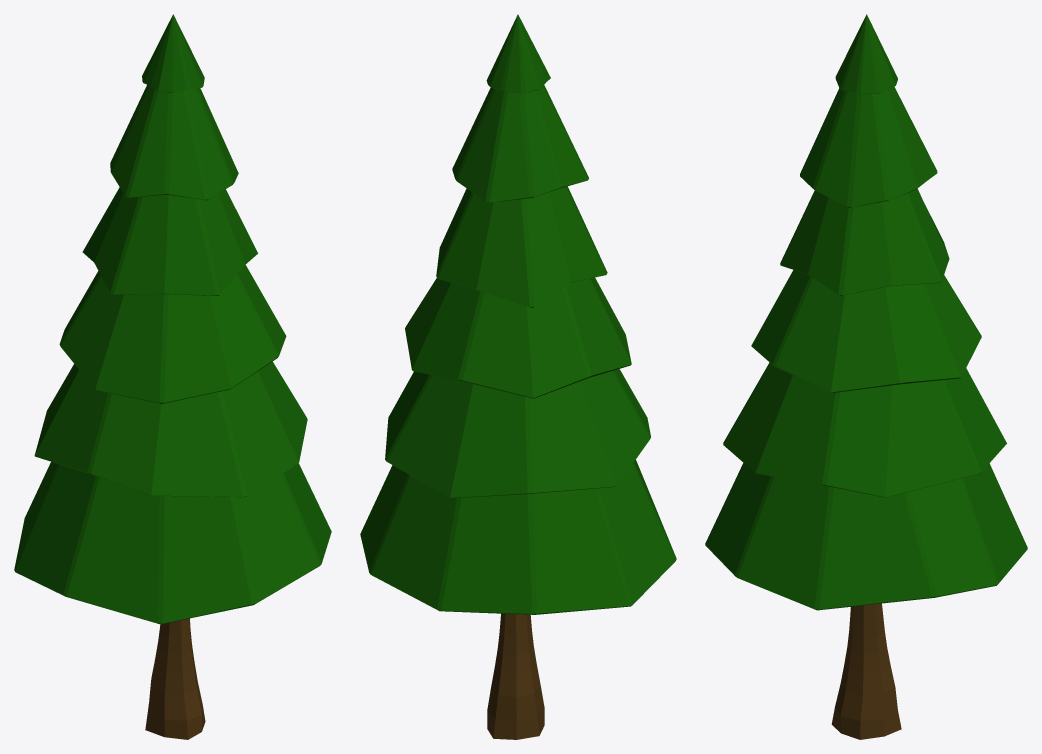
Rendered from pine-tree-4.glb.
The picture shows the model from 3 angles, left to right: view 1: azimuth 30°, elevation 25°; view 2: azimuth 150°, elevation 25°; view 3: azimuth 270°, elevation 25°; orthographic projection.
Visible parts, largest first — view 1: Pine tree 4; view 2: Pine tree 4; view 3: Pine tree 4.
Boxes of the visible parts, bbox=[...] form: Pine tree 4: bbox=[14, 14, 331, 739]; Pine tree 4: bbox=[360, 14, 676, 739]; Pine tree 4: bbox=[705, 14, 1027, 739].
Size of the model in its own units: 7.57 by 19.08 by 7.83.
